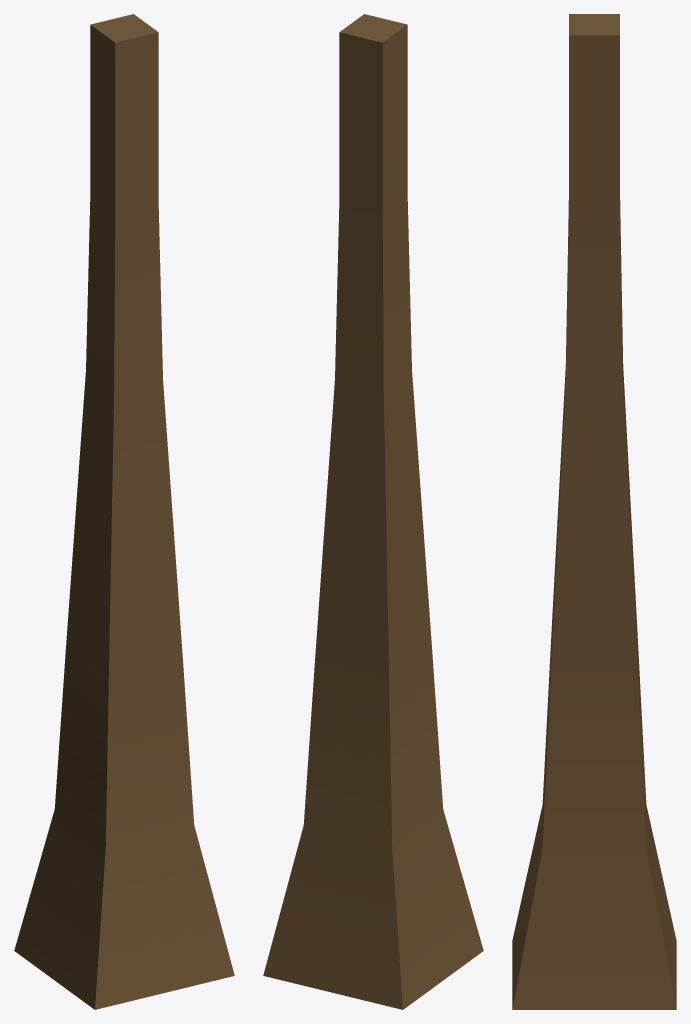
File: TreeBase_01.fbx
The picture shows the model from 3 angles, left to right: view 1: azimuth 30°, elevation 25°; view 2: azimuth 150°, elevation 25°; view 3: azimuth 270°, elevation 25°; orthographic projection.
Parts seen in each view (by area): view 1: TreeBase_01; view 2: TreeBase_01; view 3: TreeBase_01.
Boxes of the visible parts, box(x1,y1,x2,y2) form: TreeBase_01: box(14, 14, 234, 1009); TreeBase_01: box(263, 14, 483, 1009); TreeBase_01: box(512, 14, 676, 1009).
Bounding box in the file's own units: 2.33 × 14.89 × 2.33.
